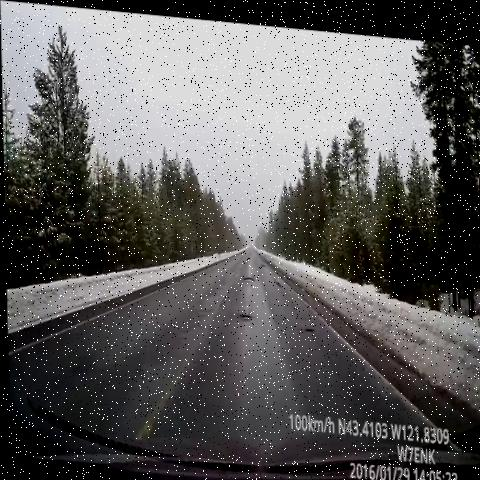pothole: (228, 288, 264, 330), (236, 264, 263, 288), (270, 265, 289, 289), (296, 317, 321, 335), (256, 249, 268, 268)
